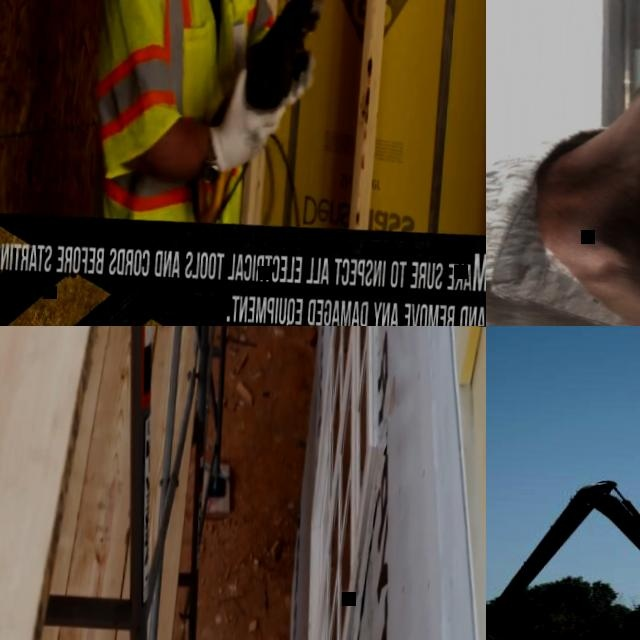NO-Safety Vest: (486, 168, 640, 326)
Person: (86, 0, 340, 226), (486, 0, 640, 326)
Safety Vest: (88, 0, 286, 227)
machinery: (486, 469, 640, 640)
